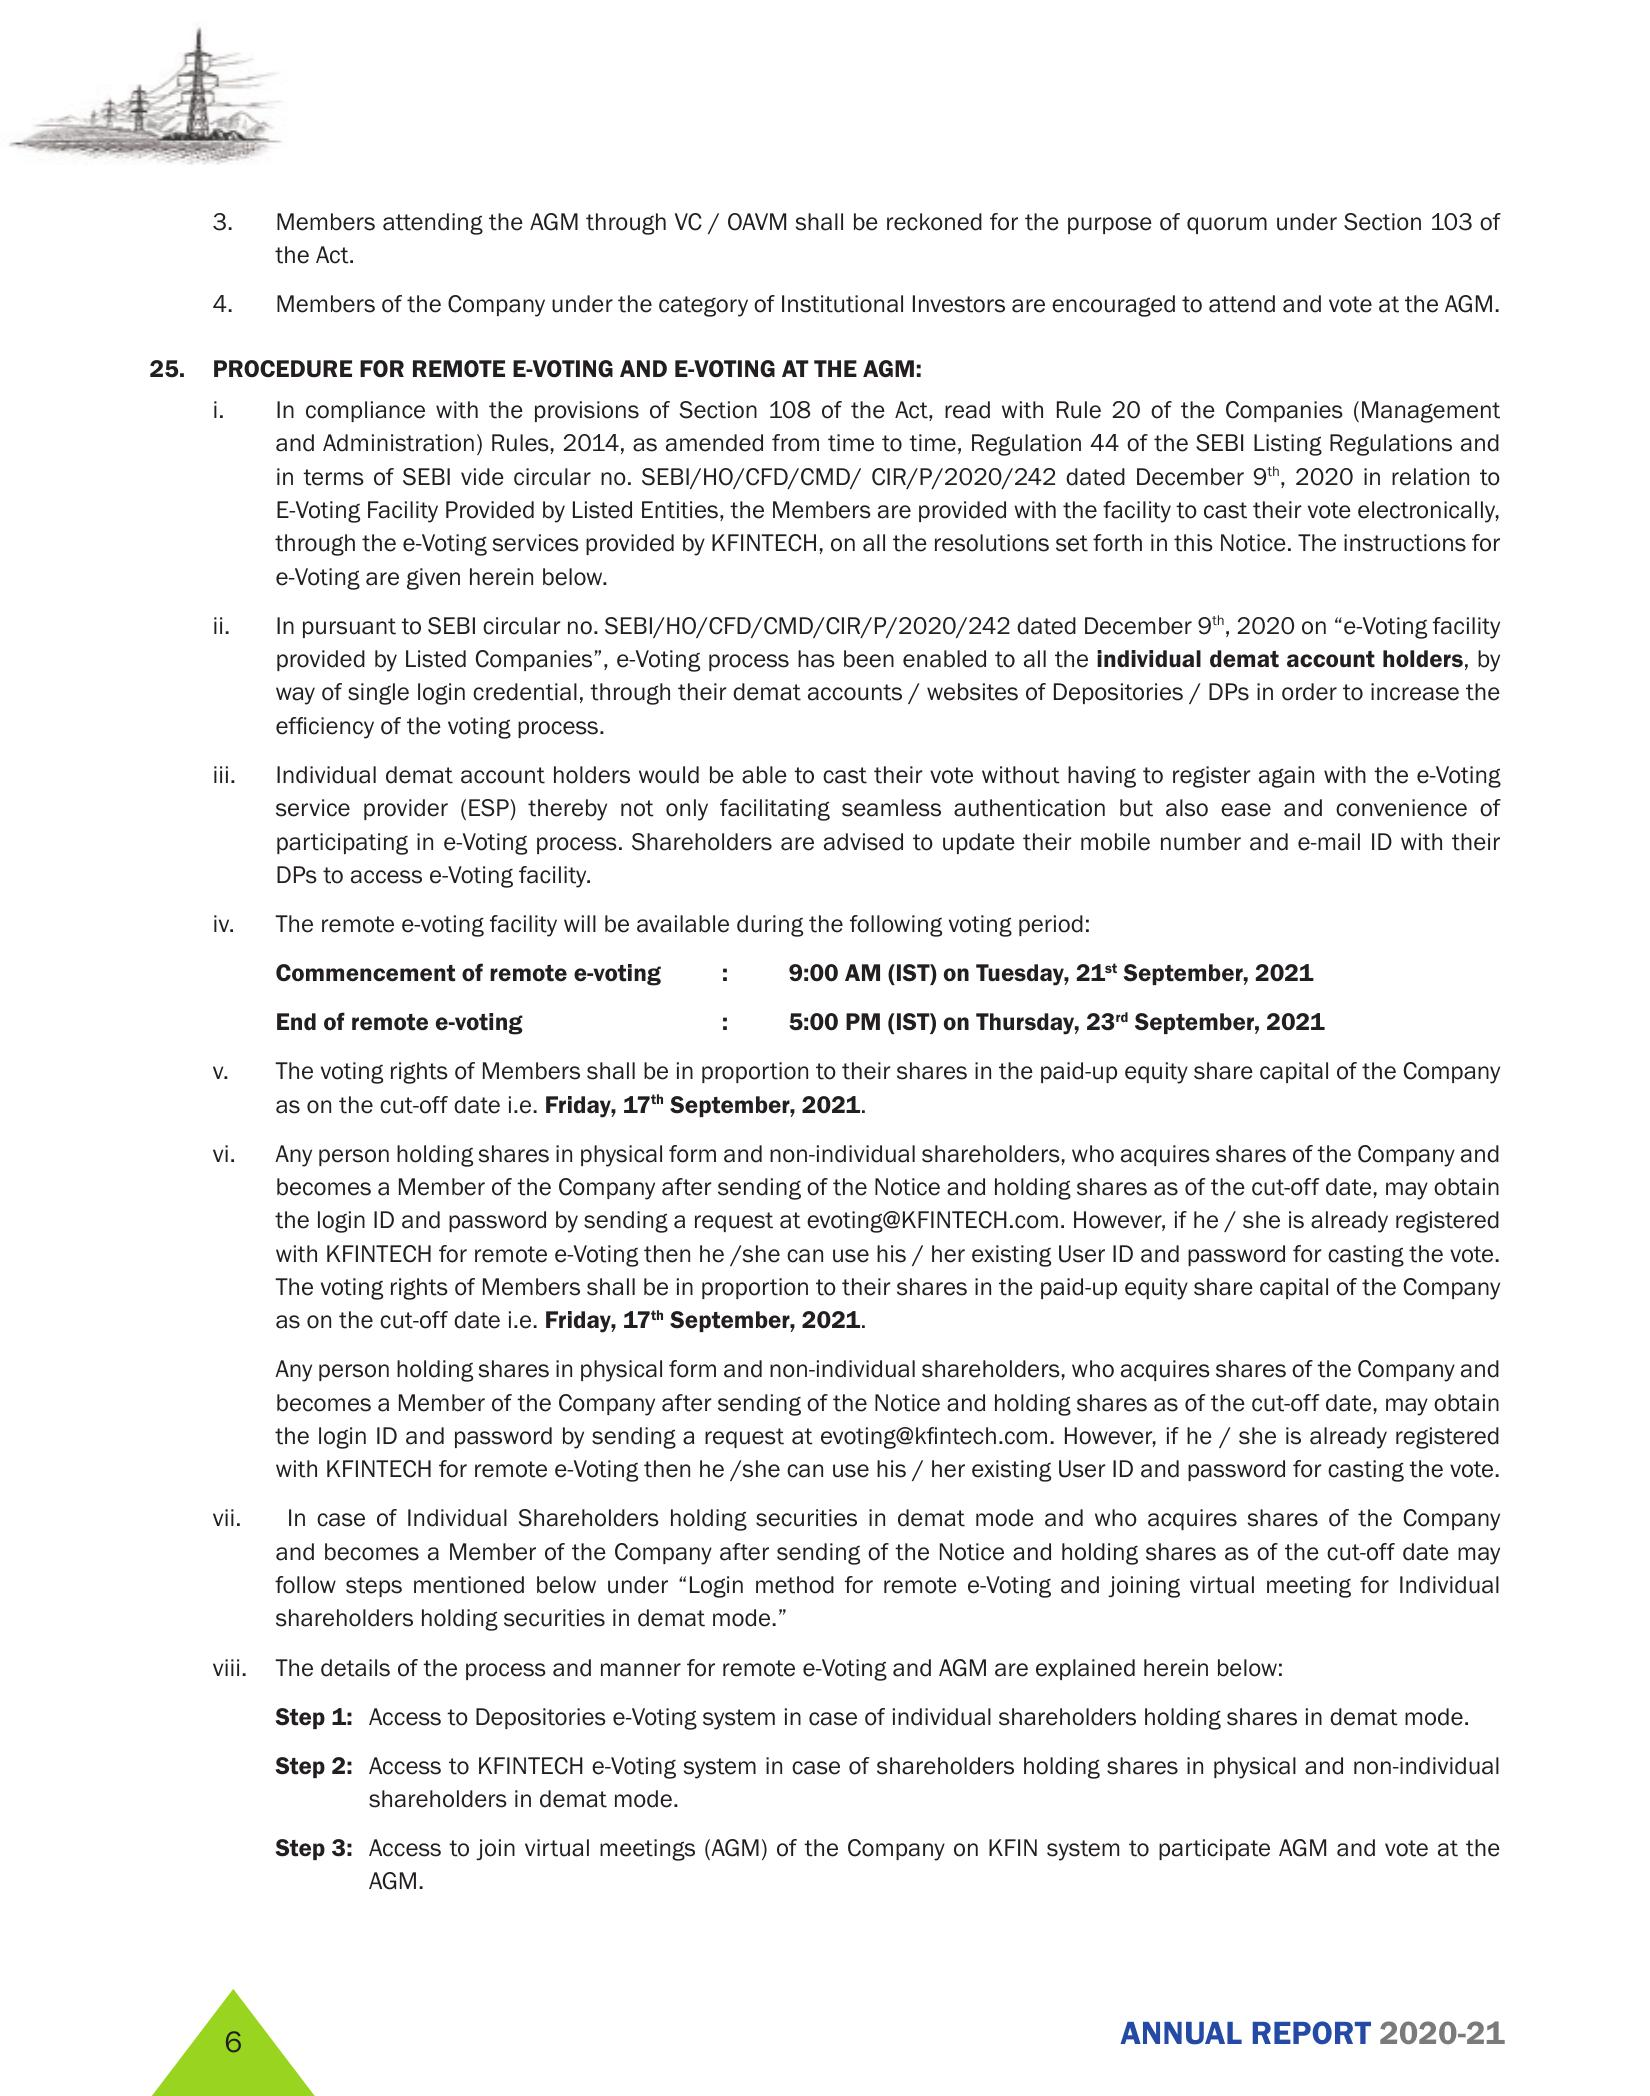Footer: (3, 1950, 1650, 2096)
Header: (0, 0, 1650, 184)
